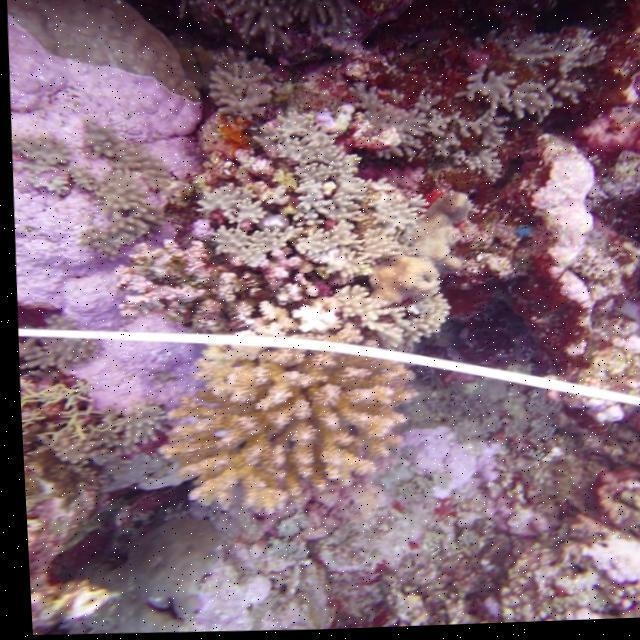Bleached Coral: (455, 0, 608, 121), (387, 394, 516, 522), (521, 144, 594, 292), (548, 526, 640, 624)
Healthy Coral: (206, 363, 360, 495)
